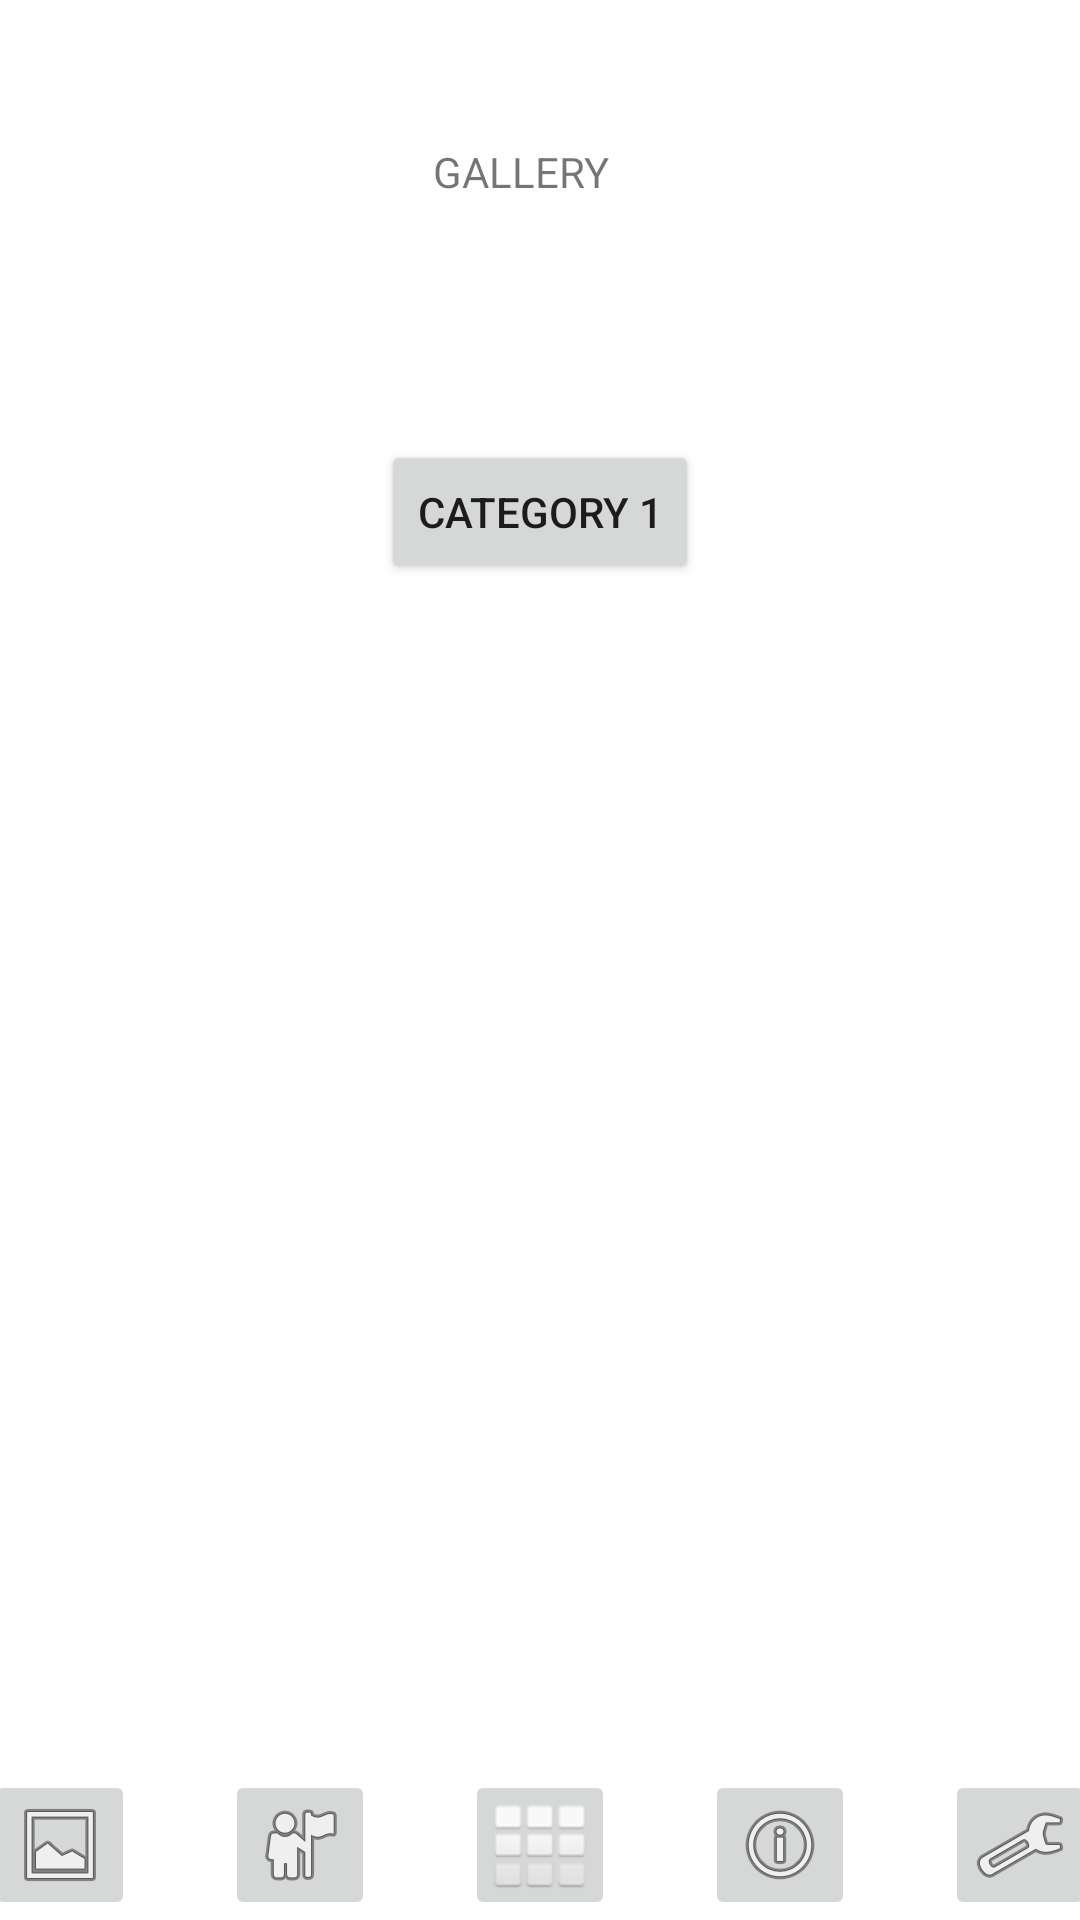

Named icons in this screenshot (1080×1920) and their centers, (x,y):
dialer: (540,1845)
